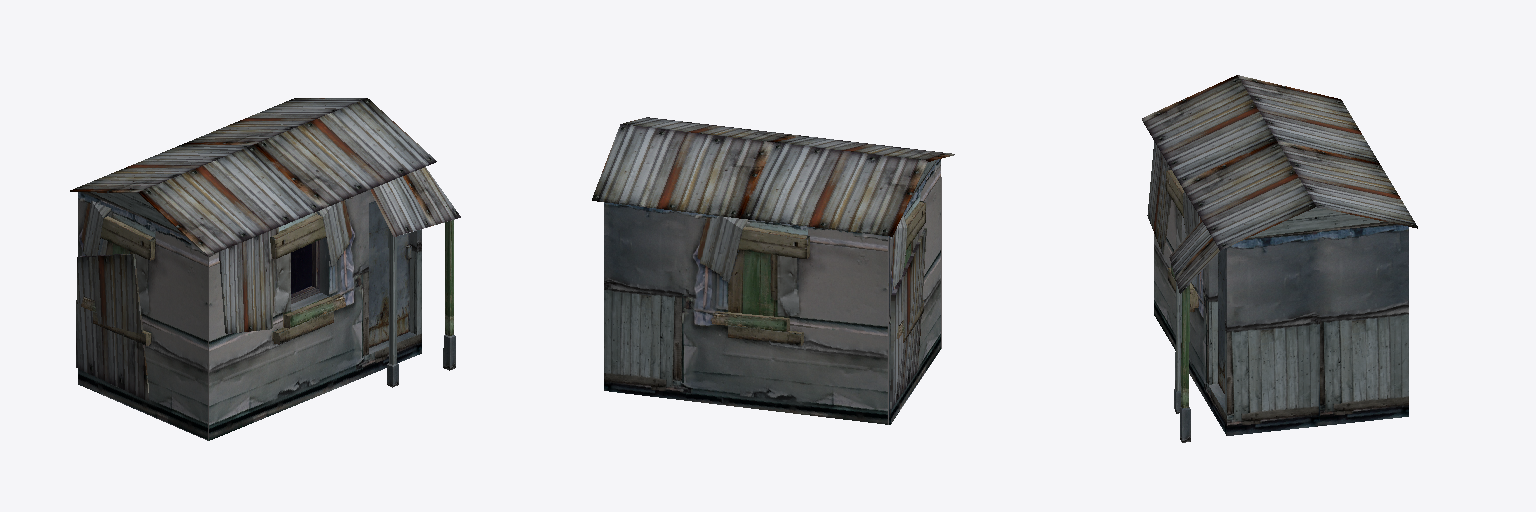
3 views of the same model, side by side, from view 1: azimuth 30°, elevation 25°; view 2: azimuth 150°, elevation 25°; view 3: azimuth 270°, elevation 25° (orthographic).
Size of the model in its own units: 124 by 86.32 by 95.5.
4 materials, 4 textured.